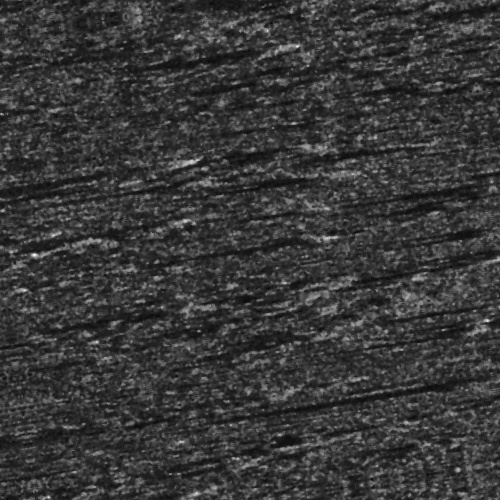object: (16, 247, 27, 256)
shadow: (0, 247, 21, 256)
